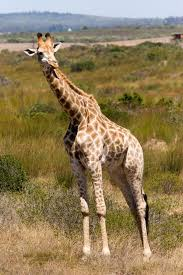Jirafa: (10, 18, 159, 230)
